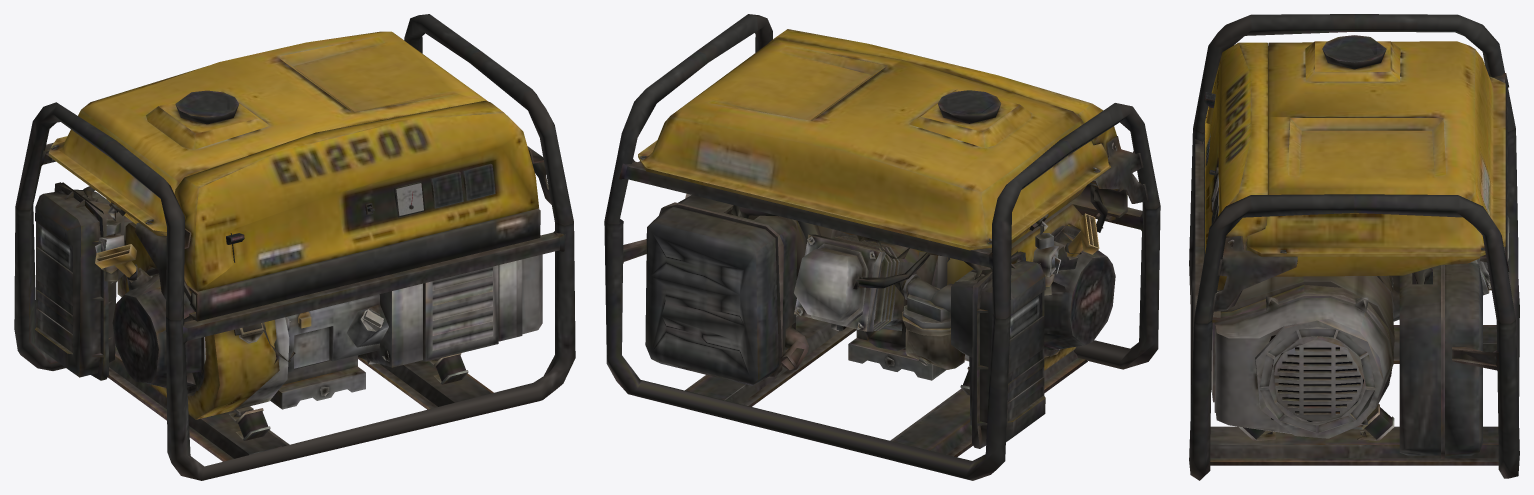
The model's file is portable_generator.glb.
3 views of the same model, side by side, from view 1: azimuth 30°, elevation 25°; view 2: azimuth 150°, elevation 25°; view 3: azimuth 270°, elevation 25° (orthographic).
Visible parts, largest first — view 1: portable_generator; view 2: portable_generator; view 3: portable_generator.
Boxes of the visible parts, x1,y1,x2,y2 form: portable_generator: (14, 14, 575, 480); portable_generator: (604, 14, 1160, 480); portable_generator: (1189, 14, 1519, 480).
Size of the model in its own units: 0.8146 by 0.5752 by 0.564.
2 materials, 2 textured.
